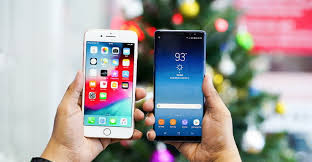iphone: (76, 27, 141, 142)
iphone7: (75, 24, 140, 139)
